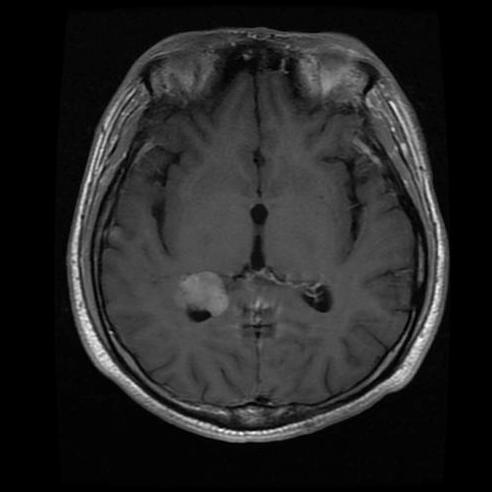Tumour-Meningioma: (152, 256, 255, 352)
